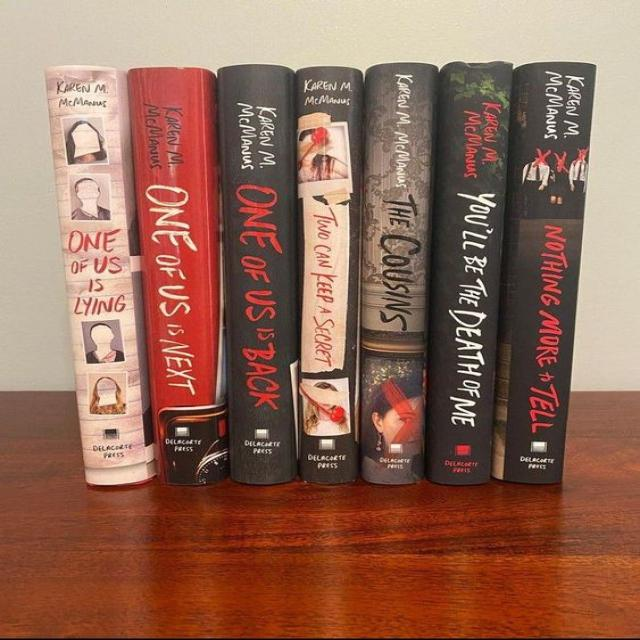book: (48, 66, 155, 485), (491, 62, 595, 484), (128, 68, 228, 485), (425, 62, 512, 485), (218, 64, 298, 485), (361, 63, 437, 485), (297, 67, 363, 483)
